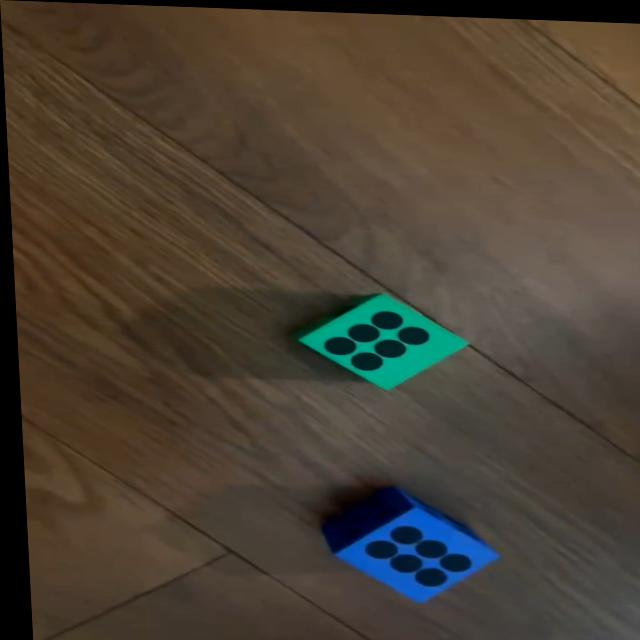cube: (312, 483, 499, 606), (292, 287, 470, 388)
